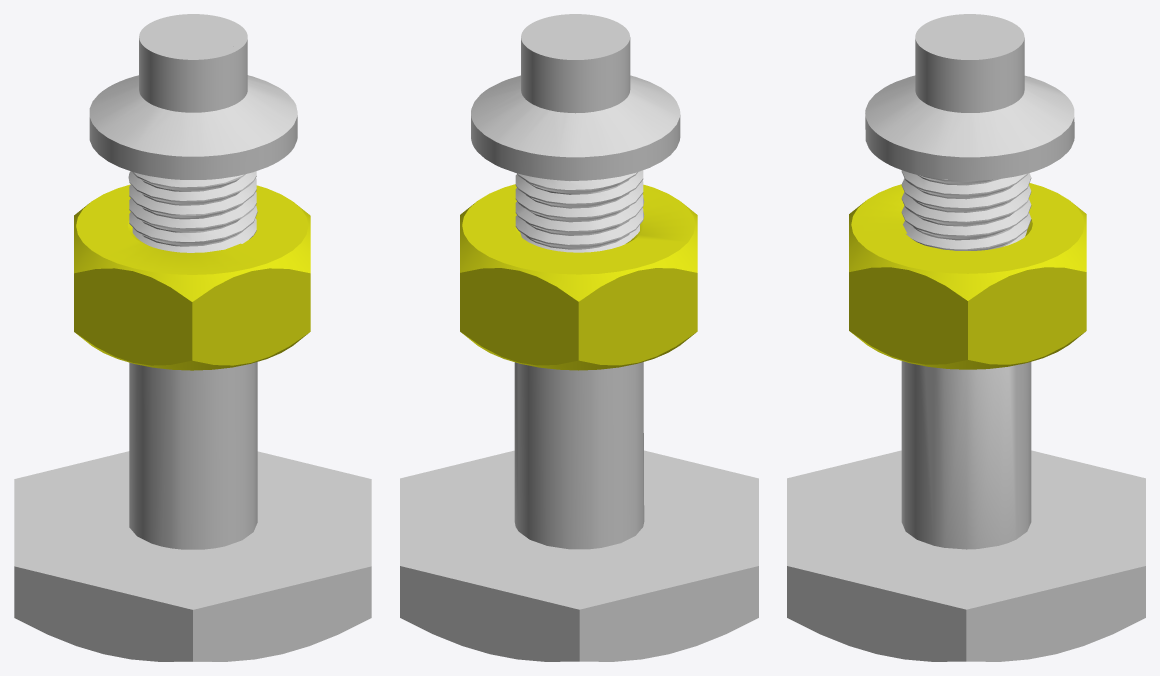
File: Nuts And Bolts.fbx
3 views of the same model, side by side, from view 1: azimuth 30°, elevation 25°; view 2: azimuth 150°, elevation 25°; view 3: azimuth 270°, elevation 25° (orthographic).
Visible parts, largest first — view 1: Bolt 2.001, Nut 1, Bolt 2, Bolt 6.001; view 2: Bolt 2.001, Nut 1, Bolt 2, Bolt 6.001; view 3: Bolt 2.001, Nut 1, Bolt 2, Bolt 6.001.
Part boxes in pixels (x1=…): Bolt 2.001: x1=14, y1=451, x2=371, y2=661; Nut 1: x1=74, y1=184, x2=310, y2=370; Bolt 2: x1=128, y1=171, x2=257, y2=549; Bolt 6.001: x1=89, y1=14, x2=297, y2=179; Bolt 2.001: x1=400, y1=450, x2=758, y2=661; Nut 1: x1=460, y1=184, x2=697, y2=370; Bolt 2: x1=514, y1=170, x2=644, y2=549; Bolt 6.001: x1=471, y1=14, x2=680, y2=180; Bolt 2.001: x1=787, y1=450, x2=1145, y2=661; Nut 1: x1=849, y1=183, x2=1086, y2=369; Bolt 2: x1=901, y1=170, x2=1031, y2=549; Bolt 6.001: x1=865, y1=14, x2=1074, y2=180.
Size of the model in its own units: 12.03 by 17.69 by 10.42.
